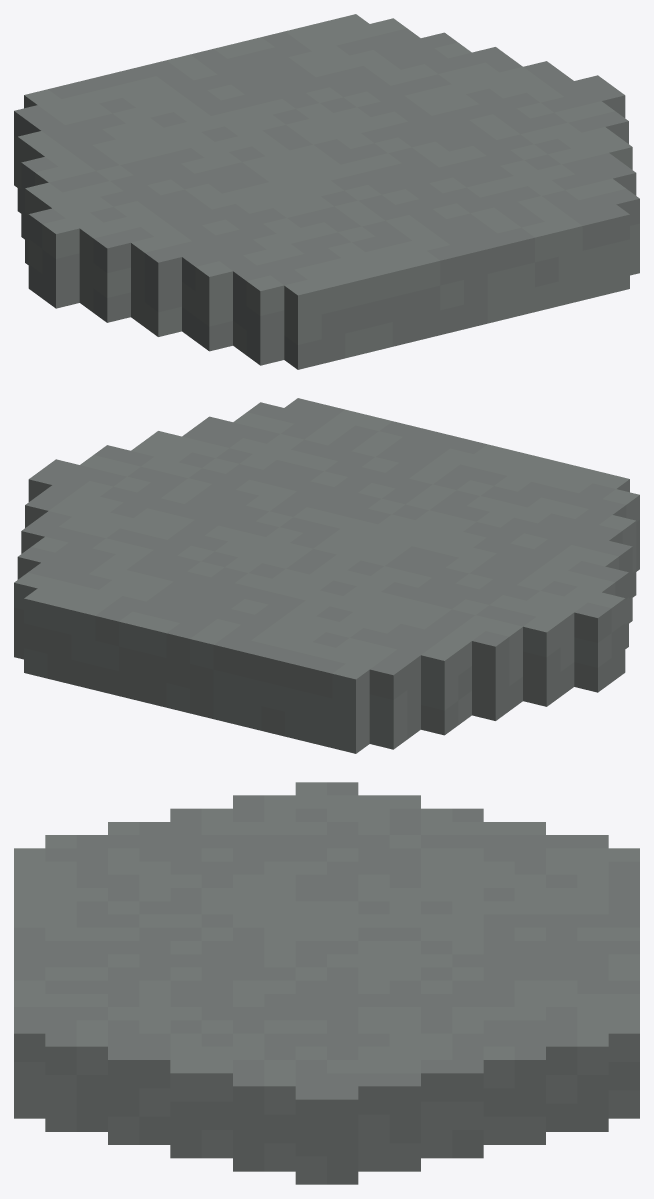
File: overworld-37-stone_3px.obj
3 views of the same model, one above another, from view 1: azimuth 30°, elevation 25°; view 2: azimuth 150°, elevation 25°; view 3: azimuth 270°, elevation 25° (orthographic). The views are drawn at different scales.
Parts seen in each view (by area): view 1: stone_3px; view 2: stone_3px; view 3: stone_3px.
Boxes of the visible parts, x1,y1,x2,y2 form: stone_3px: [14, 14, 639, 369]; stone_3px: [14, 398, 639, 753]; stone_3px: [14, 782, 639, 1184].
Bounding box in the file's own units: 2.4 × 0.3 × 2.
1 material, 1 textured.
